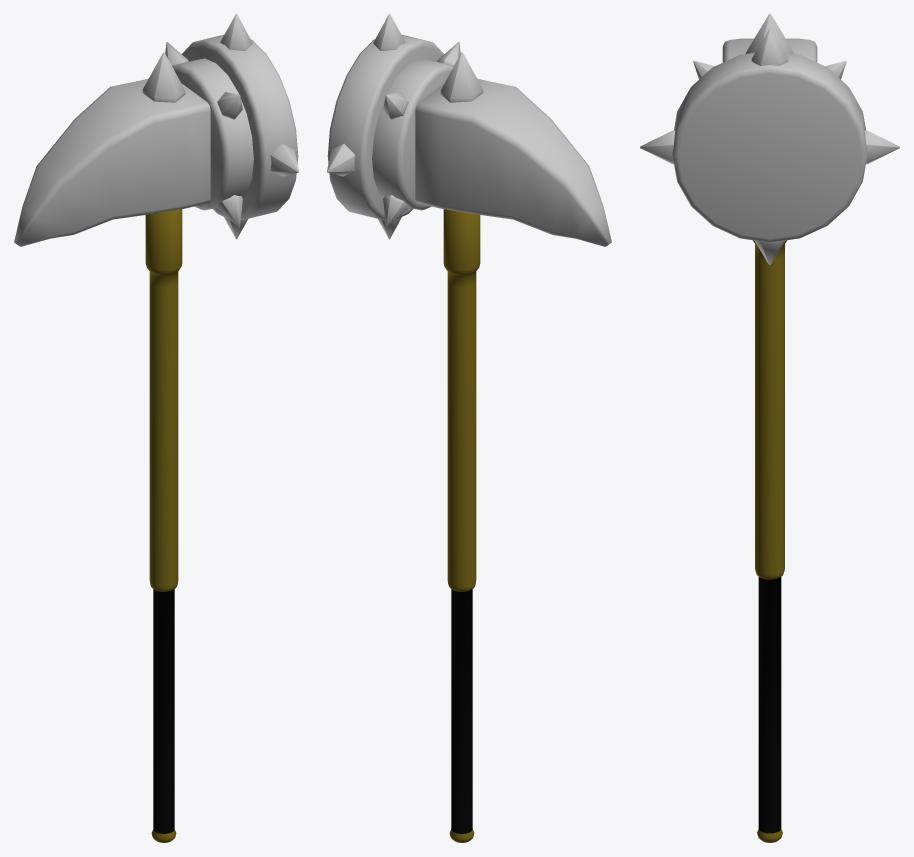
File: TwoHand_Hammer_Iron.fbx
The picture shows the model from 3 angles, left to right: view 1: azimuth 30°, elevation 25°; view 2: azimuth 150°, elevation 25°; view 3: azimuth 270°, elevation 25°; orthographic projection. The views are drawn at different scales.
Parts seen in each view (by area): view 1: TwoHand_Hammer_Iron; view 2: TwoHand_Hammer_Iron; view 3: TwoHand_Hammer_Iron.
Part boxes in pixels (box(x1,y1,x2,y2)): TwoHand_Hammer_Iron: box(14, 14, 298, 842); TwoHand_Hammer_Iron: box(327, 14, 611, 842); TwoHand_Hammer_Iron: box(640, 14, 899, 842).
Bounding box in the file's own units: 385 × 1247 × 346.
